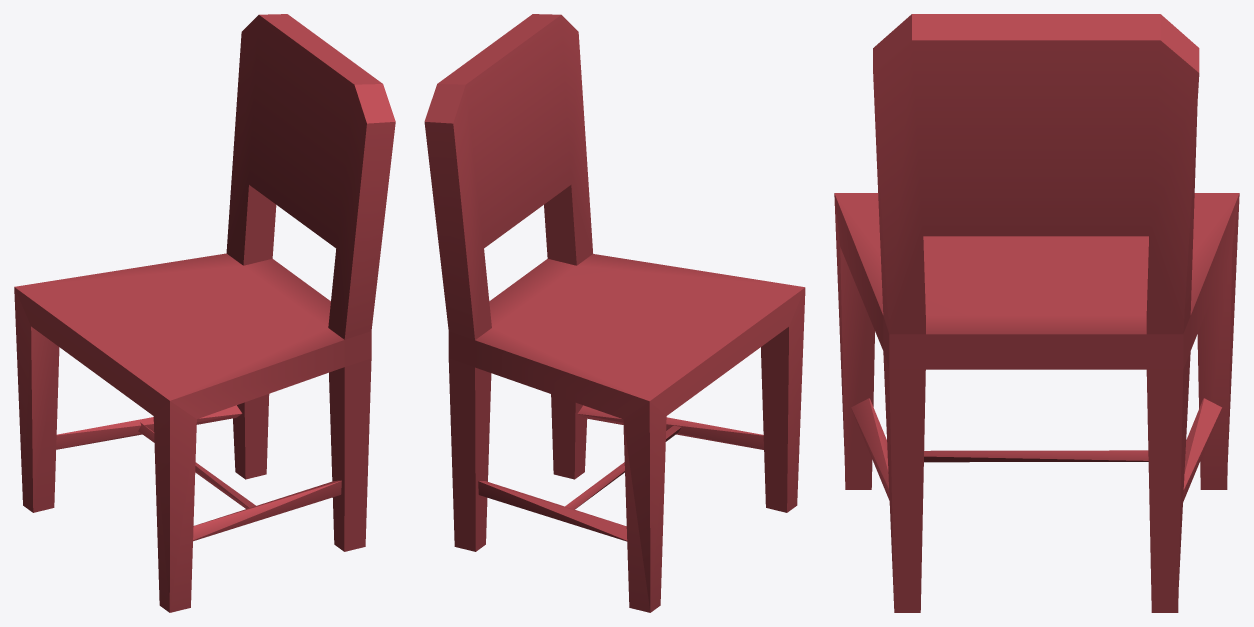
Rendered from Low_Poly_Chair_to_go_with_the_table.glb.
3 renders of one model, left to right at view 1: azimuth 30°, elevation 25°; view 2: azimuth 150°, elevation 25°; view 3: azimuth 270°, elevation 25°, orthographic. The views are drawn at different scales.
Visible parts, largest first — view 1: Chair.007; view 2: Chair.007; view 3: Chair.007.
Boxes of the visible parts, left/top/right/bottom form: Chair.007: left=14, top=14, right=395, bottom=612; Chair.007: left=424, top=14, right=805, bottom=612; Chair.007: left=834, top=14, right=1239, bottom=612.
Size of the model in its own units: 0.5676 by 1.02 by 0.6303.
